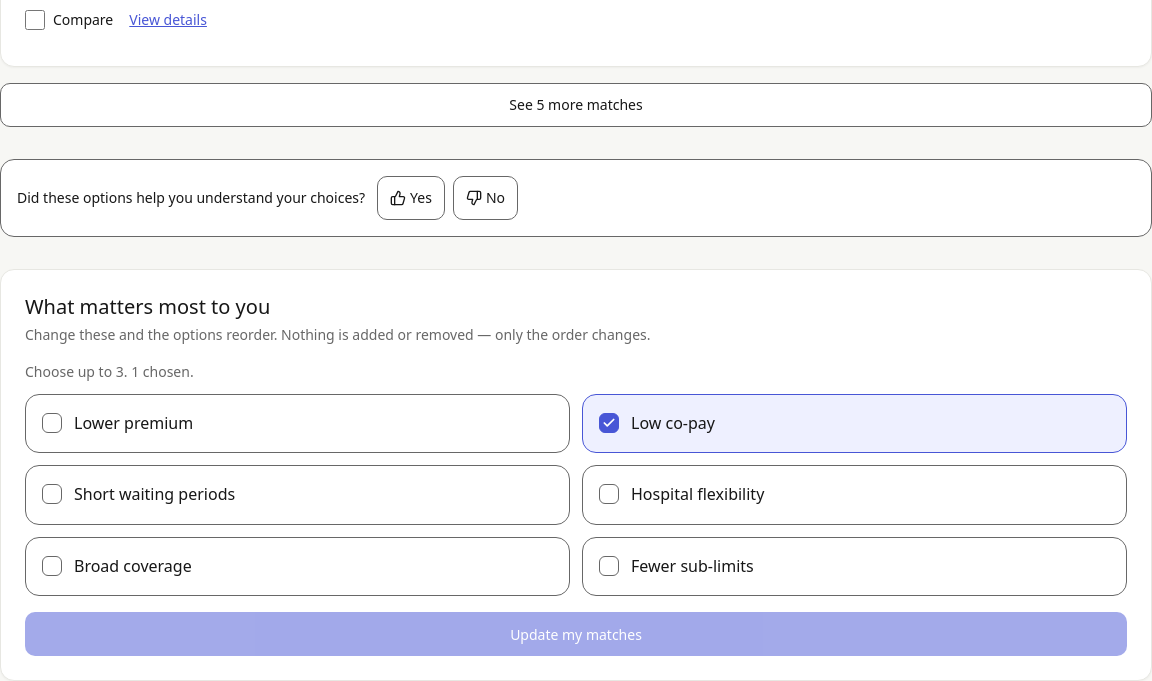
it: ResultsClient › sends changed priorities to the server and explains what moved
The width and height of the screenshot is (1152, 681).
(page scrolled)
Click the checkbox labelled "Lower premium" at (134, 422), box 25,394 -> 570,453
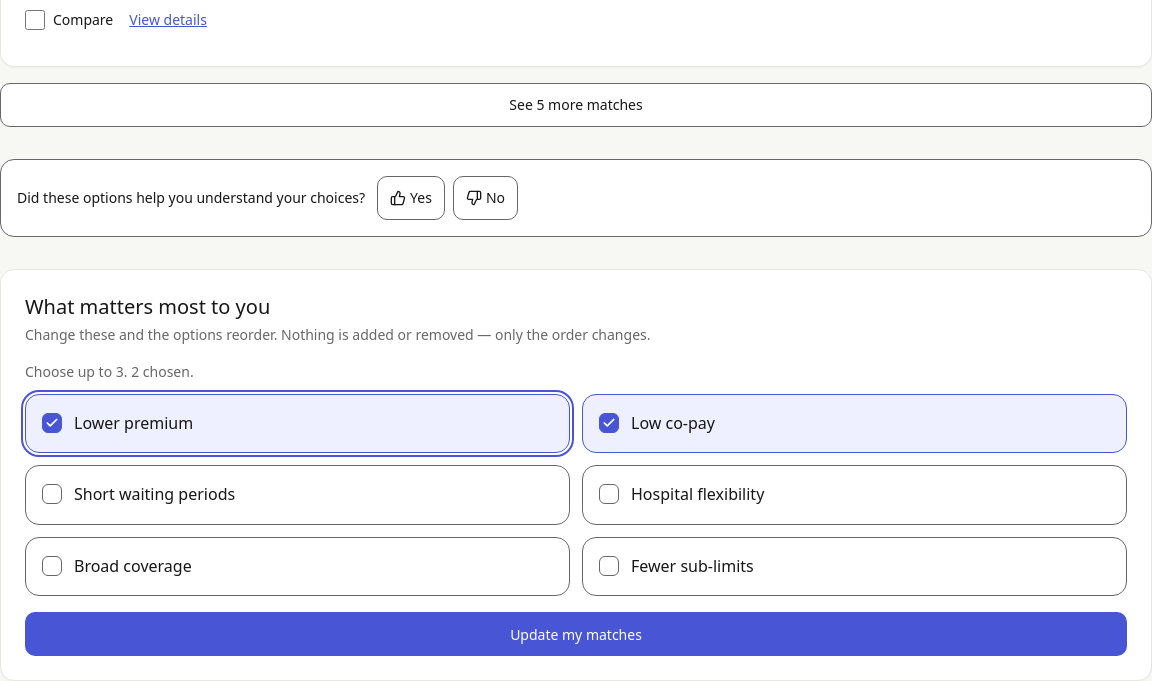
Click the button "Update my matches" at (576, 634), box 25,612 -> 1127,656
(page scrolled)
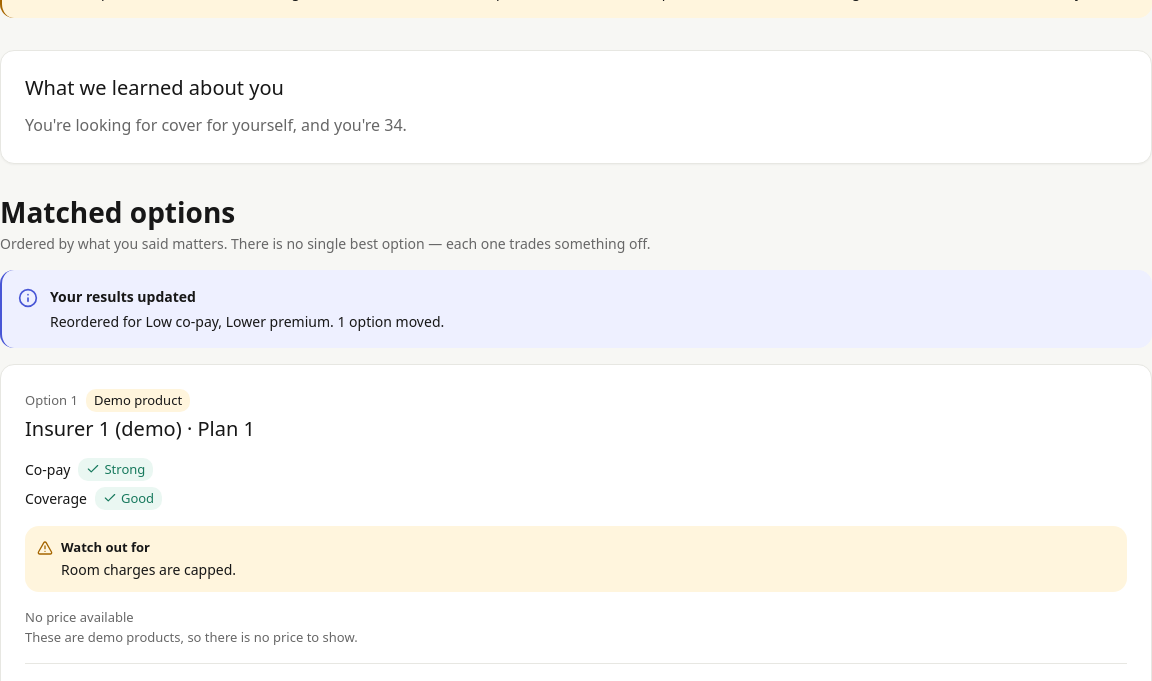
Expected: the text "Reordered for Low co-pay, Lower premium. 1 option moved." is shown, 50,311 -> 444,332
